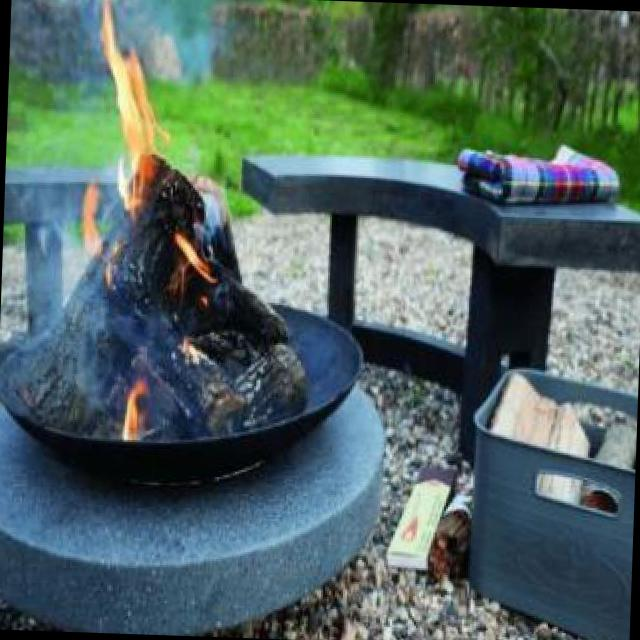Fire: (78, 0, 172, 216), (72, 176, 129, 290), (112, 357, 156, 456)
